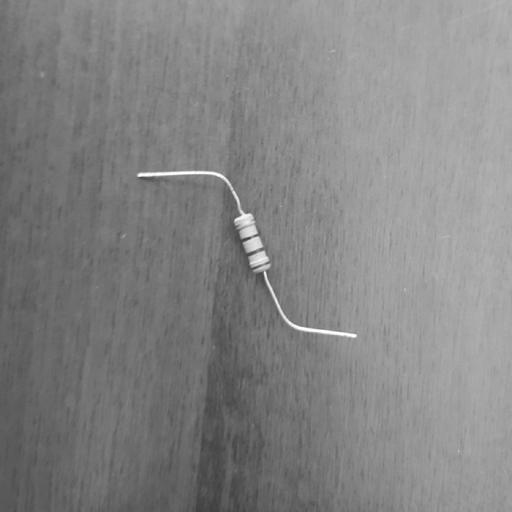RESISTOR: (195, 204, 321, 314)
